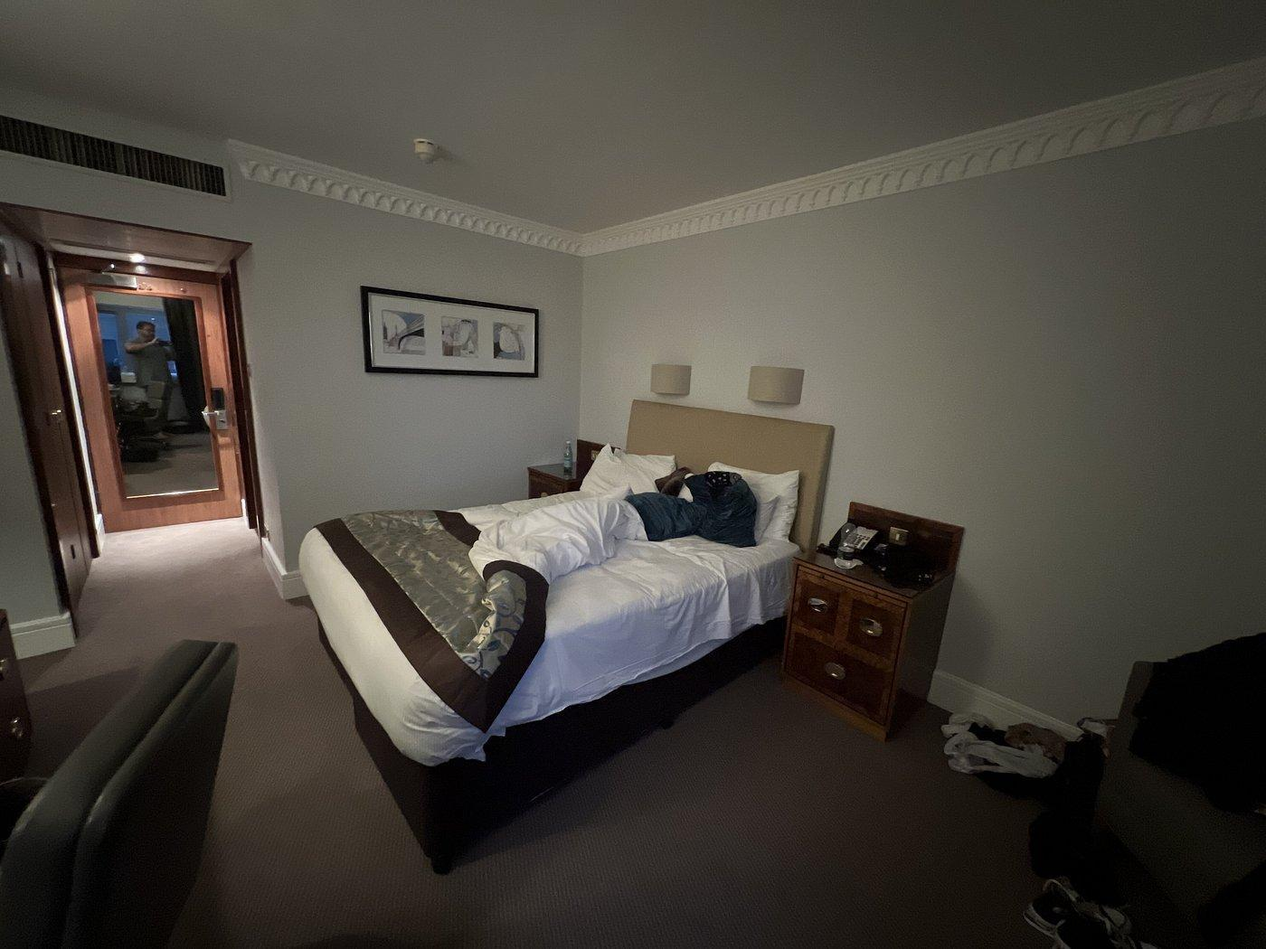Disorganized_pillow: (597, 446, 800, 553)
mess: (939, 711, 1121, 800)
messy_bed: (304, 444, 800, 744)
